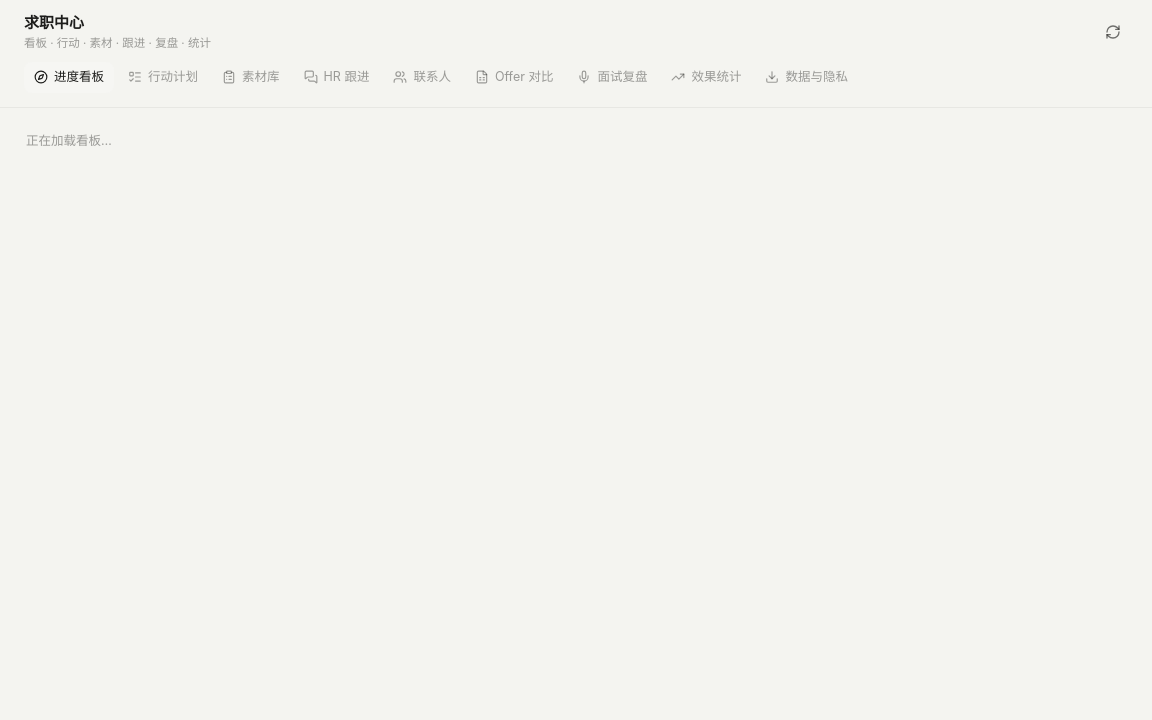
Test case: CareerCenterPage › 效果统计展示转化率与样本量（分母为 0 显示样本不足）
Click the button "效果统计" at (706,77), box x1=661 y1=62 x2=751 y2=93
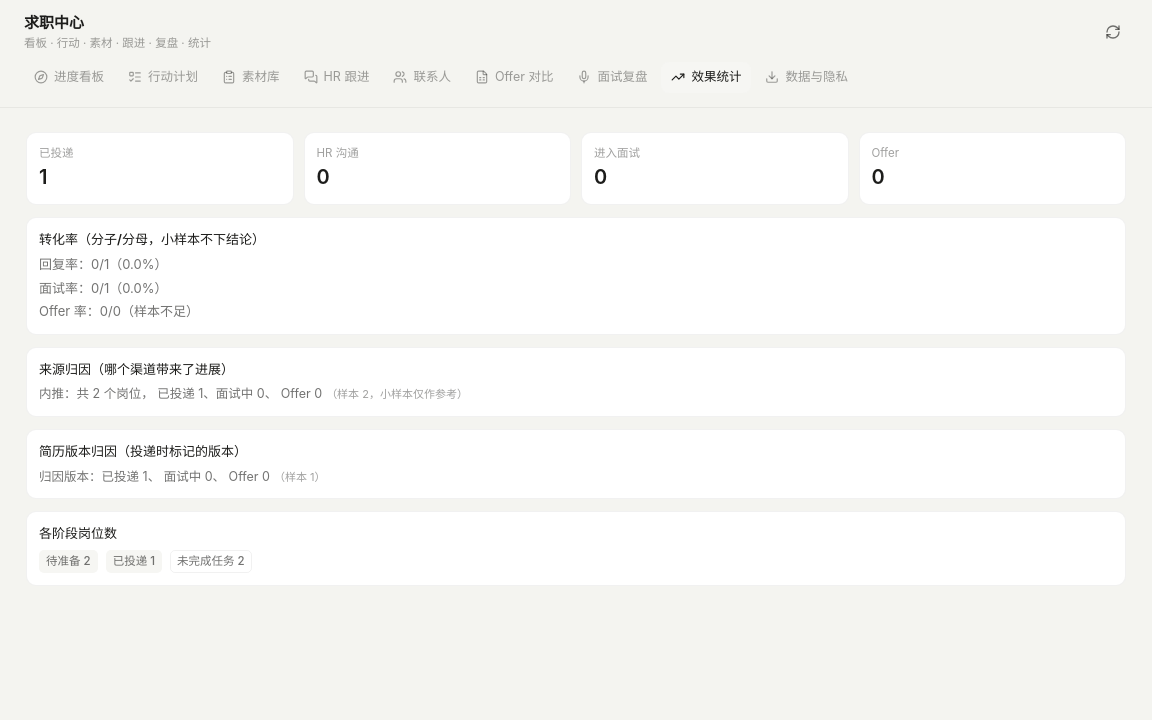
Result: the text "转化率（分子/分母，小样本不下结论）" is shown at x1=39 y1=231 x2=265 y2=247
Result: the list item "Offer 率：0/0（样本不足）" is shown at x1=39 y1=303 x2=199 y2=319
Result: the text "已投递" is shown at x1=39 y1=146 x2=74 y2=160
